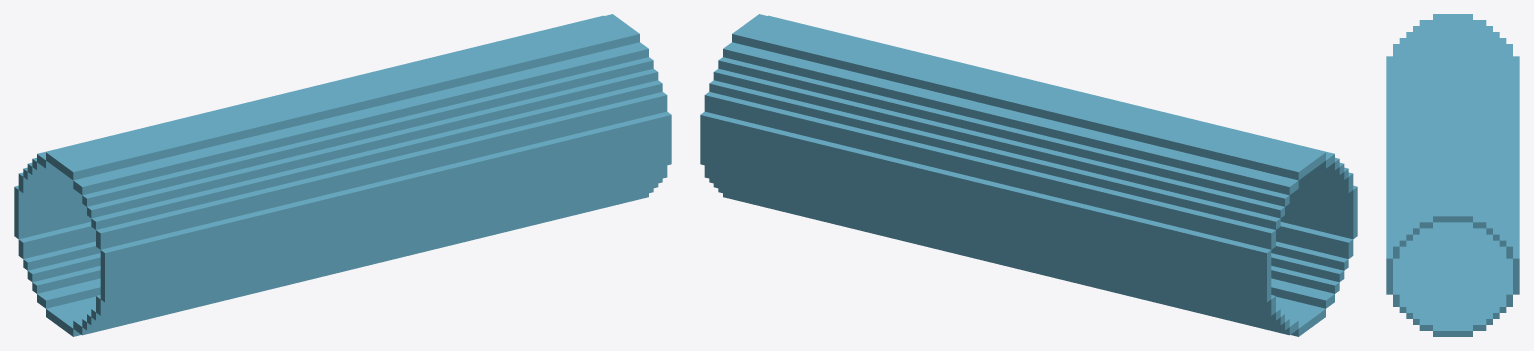
Rendered from Pipelength72.obj.
The picture shows the model from 3 angles, left to right: view 1: azimuth 30°, elevation 25°; view 2: azimuth 150°, elevation 25°; view 3: azimuth 270°, elevation 25°; orthographic projection. The views are drawn at different scales.
Bounding box in the file's own units: 72 × 20 × 20.
Materials: 1 (1 with a texture image).
